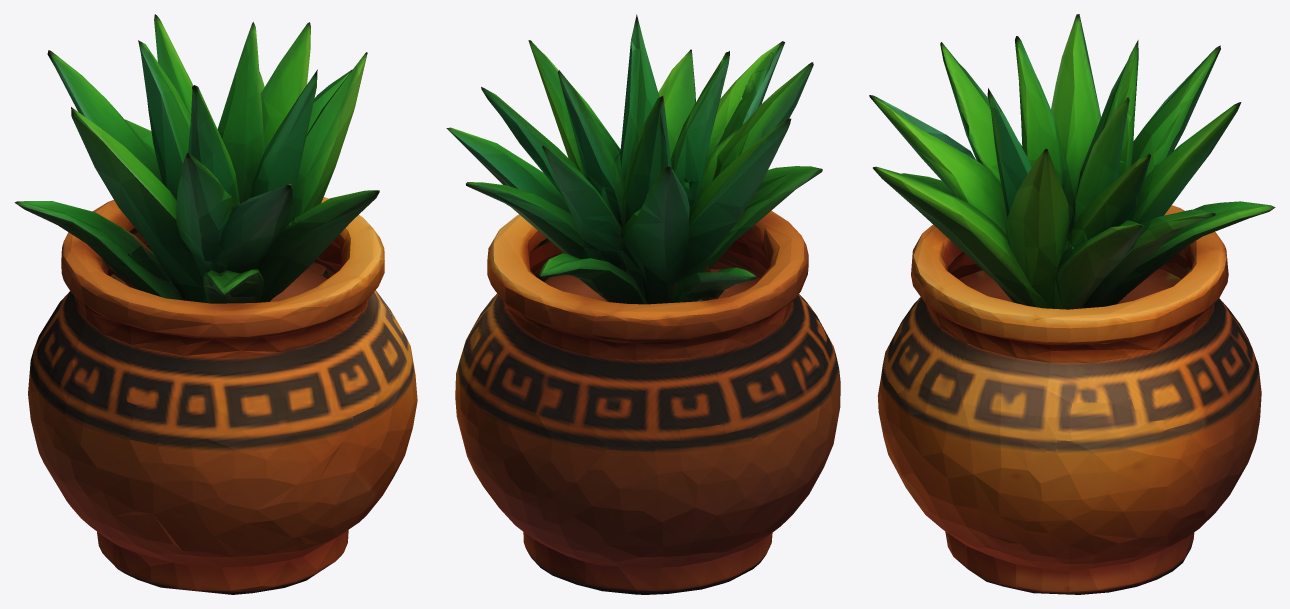
The model's file is desert_cactus.glb.
3 renders of one model, left to right at view 1: azimuth 30°, elevation 25°; view 2: azimuth 150°, elevation 25°; view 3: azimuth 270°, elevation 25°, orthographic.
Visible parts, largest first — view 1: world; view 2: world; view 3: world.
Boxes of the visible parts, x1=… form: world: x1=14, y1=14, x2=417, y2=594; world: x1=446, y1=14, x2=840, y2=594; world: x1=869, y1=14, x2=1275, y2=594.
Size of the model in its own units: 0.7107 by 0.9899 by 0.7536.
Materials: 1 (1 with a texture image).
